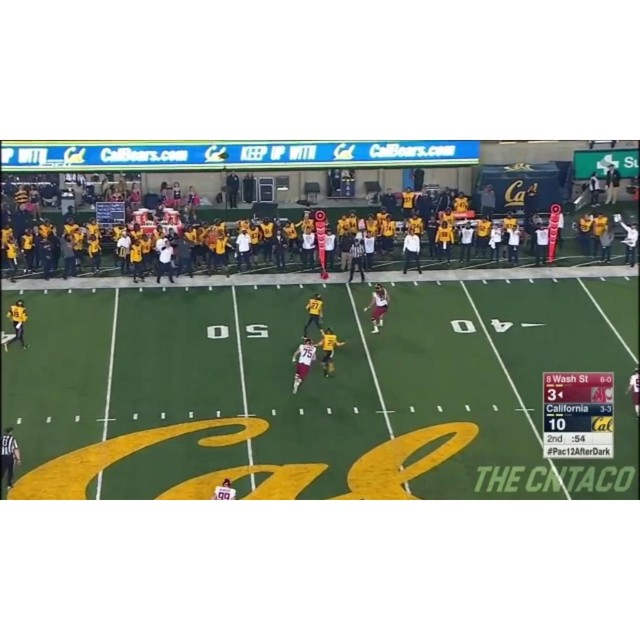american-football-player: (290, 336, 318, 395), (319, 326, 347, 378), (3, 299, 29, 351), (364, 282, 389, 334), (302, 293, 325, 338)
referee: (0, 426, 21, 493), (347, 235, 367, 284)
